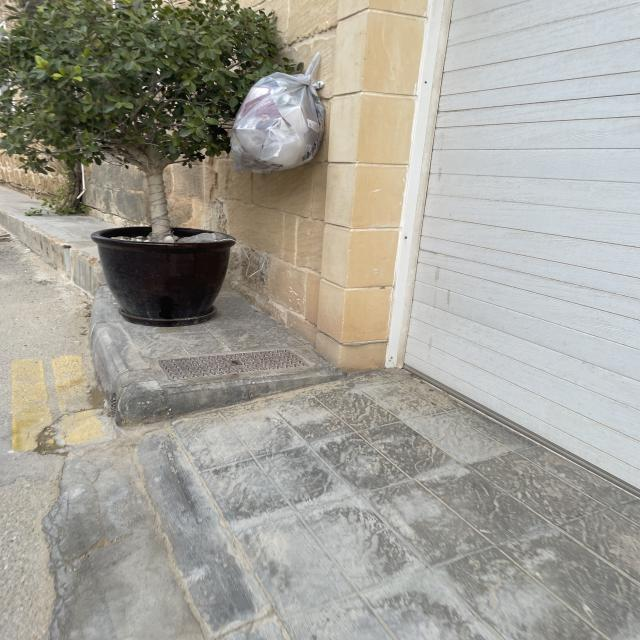grey_bag: (228, 53, 335, 173)
